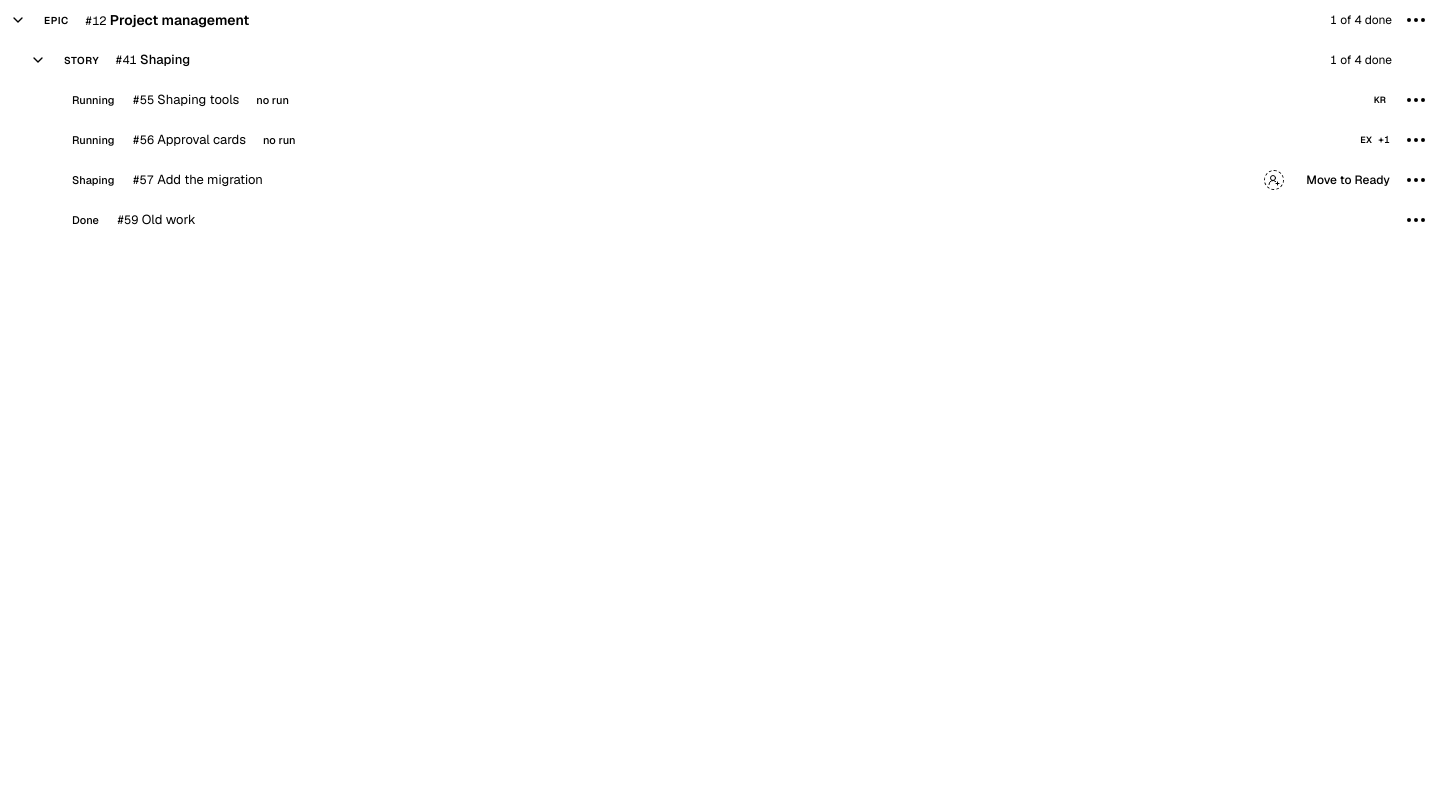
Test case: an open task with nobody offers Assign me first, then the people who can be assigned, and assigning leaves the status alone
expect the button "Assign" is not shown: met
Click the button named "Assign #57".
click(1274, 180)  # box [1262,168,1286,192]
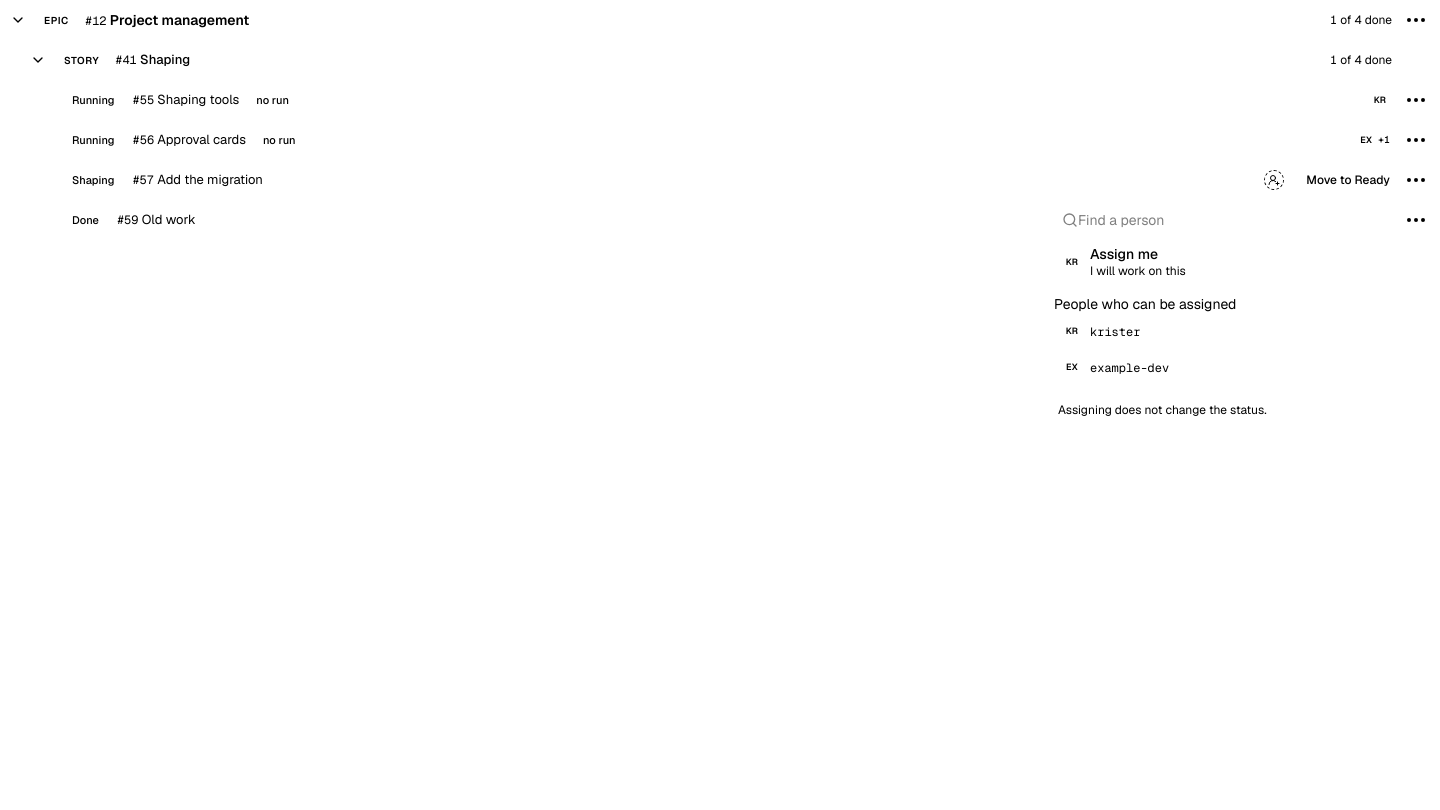
expect the option "KR Assign me I will work on this" is shown: met
expect the text "Assigning does not change the status." is shown: met, box [1058,402,1274,418]
expect the options read "KRkrister", "EXexample-dev", in this order: met, box [1066,324,1140,340]; [1066,360,1169,376]
Click the option "KR Assign me I will work on this".
click(1126, 262)  # box [1066,245,1186,278]
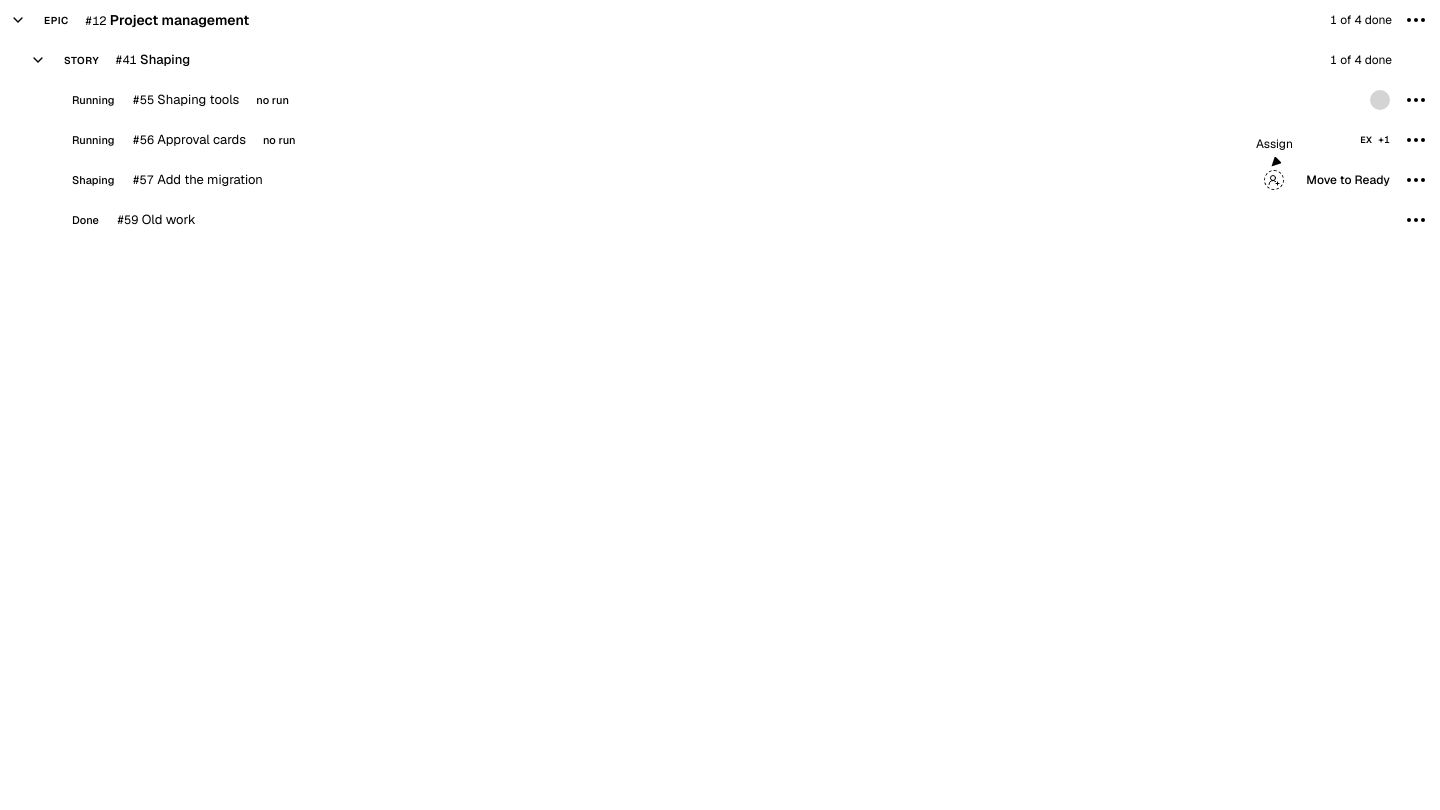
expect the dialog is gone: met
